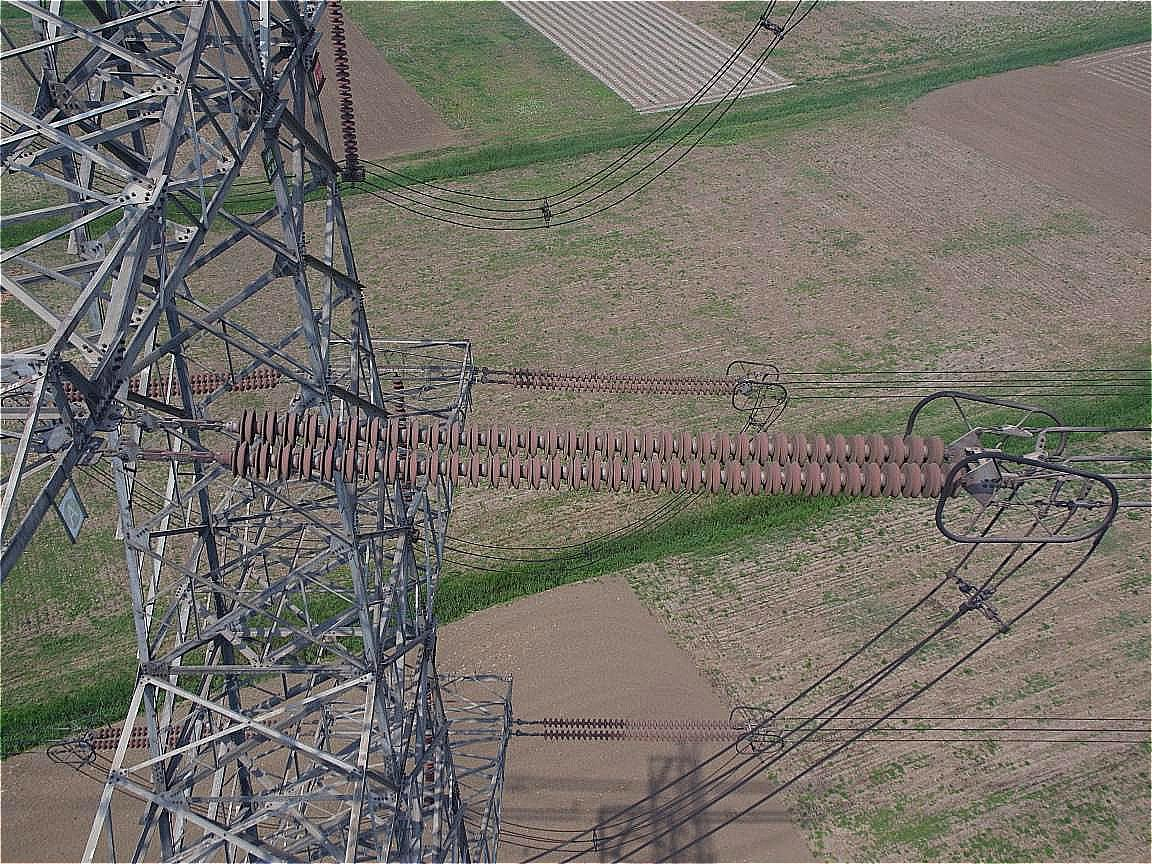insultor1: (537, 715, 752, 745)
insultor2: (226, 408, 969, 500), (510, 362, 749, 400)
